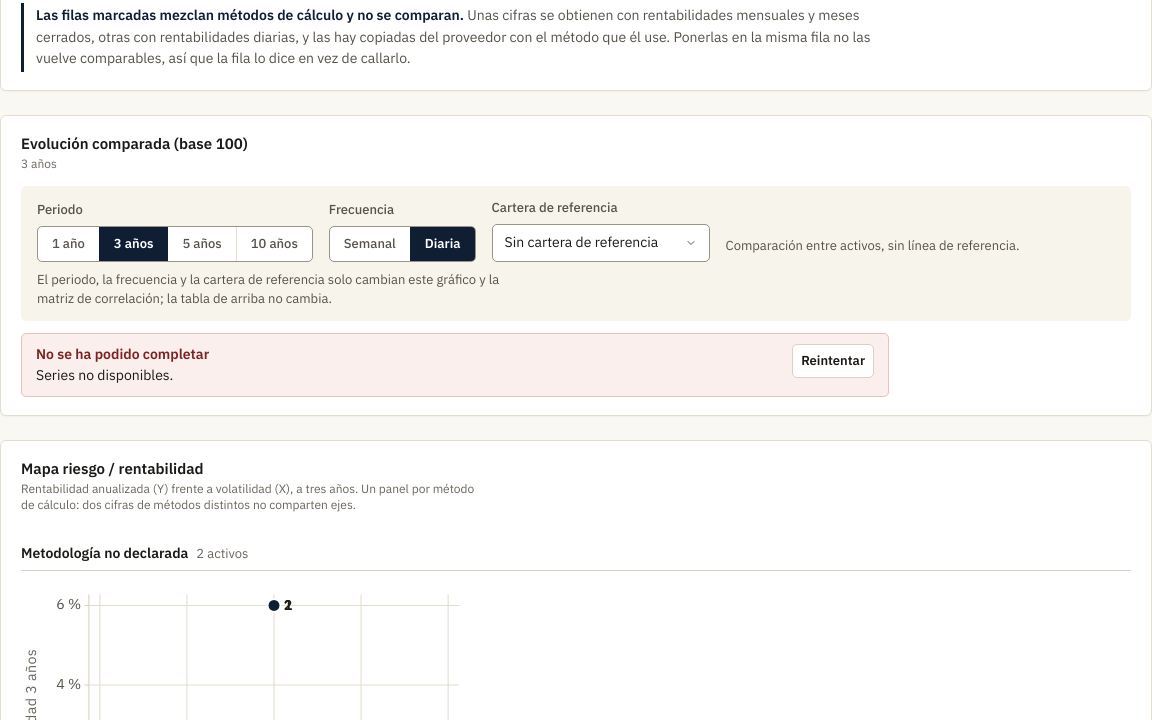
Scenario: banners con la causa del error y reintento › Comparador de activos: la serie rebasada que falla se vuelve a pedir
This screenshot has width=1152, height=720.
(page scrolled)
Click the button "Reintentar" at (833, 360), box [792,344,874,378]
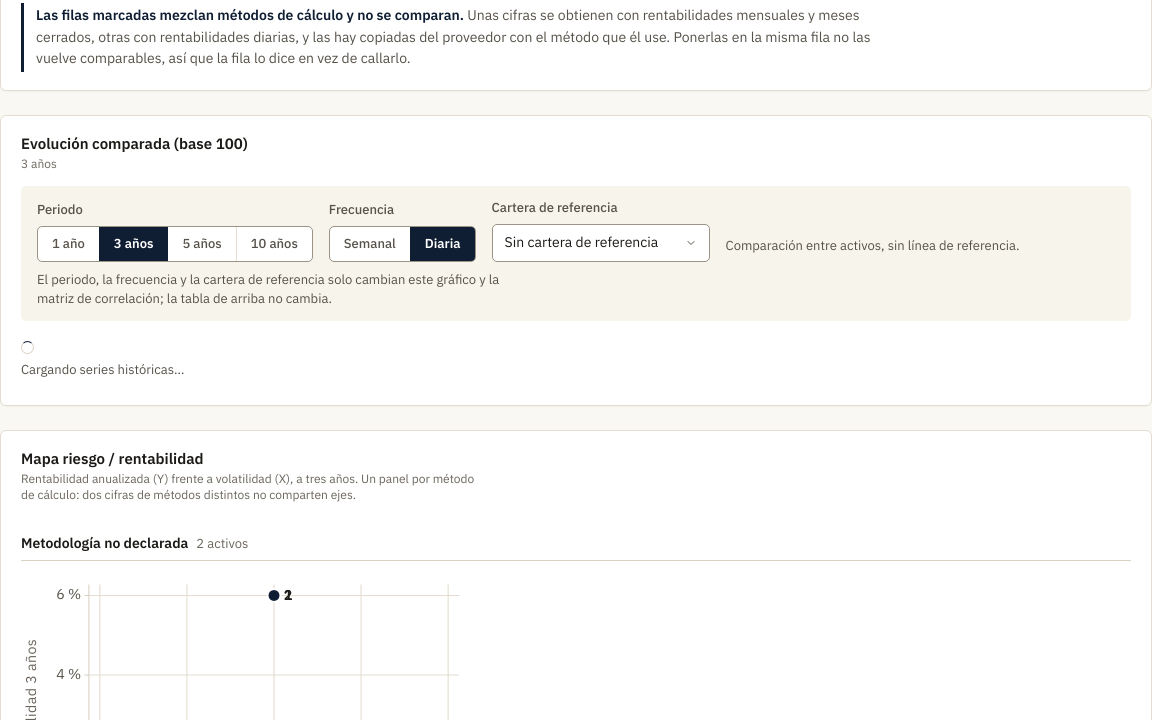
Now the text "Cargando series históricas" is shown, box [21,360,184,378]
